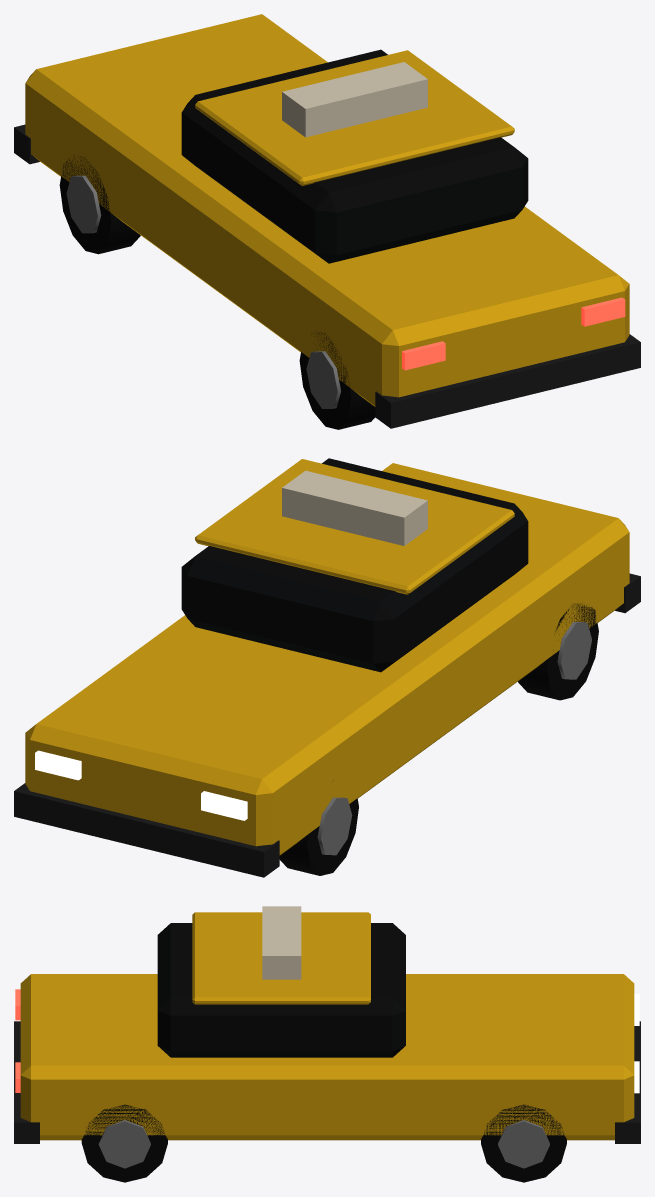
File: taxi.glb
3 views of the same model, one above another, from view 1: azimuth 30°, elevation 25°; view 2: azimuth 150°, elevation 25°; view 3: azimuth 270°, elevation 25° (orthographic). The views are drawn at different scales.
Parts seen in each view (by area): view 1: taxi0_body, taxi0_tail; view 2: taxi0_body, taxi0_glow; view 3: taxi0_body.
Boxes of the visible parts, <box> form: taxi0_body: <box>14,14,640,429</box>; taxi0_tail: <box>402,297,625,370</box>; taxi0_body: <box>14,458,640,877</box>; taxi0_glow: <box>35,750,247,820</box>; taxi0_body: <box>14,906,640,1182</box>.
Size of the model in its own units: 1.87 by 1.7 by 4.8.
